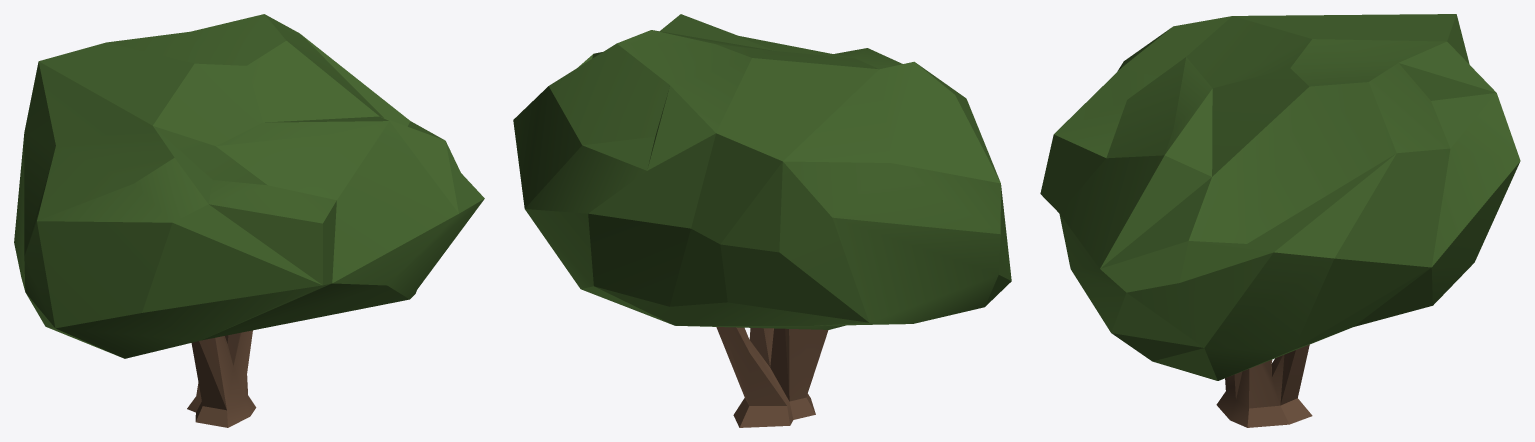
The model's file is BroadleafH.fbx.
The picture shows the model from 3 angles, left to right: view 1: azimuth 30°, elevation 25°; view 2: azimuth 150°, elevation 25°; view 3: azimuth 270°, elevation 25°; orthographic projection. The views are drawn at different scales.
Visible parts, largest first — view 1: BroadleafH; view 2: BroadleafH; view 3: BroadleafH.
Boxes of the visible parts, x1,y1,x2,y2 form: BroadleafH: [14, 14, 484, 427]; BroadleafH: [513, 14, 1011, 427]; BroadleafH: [1040, 14, 1520, 427].
Size of the model in its own units: 428 by 344 by 394.
